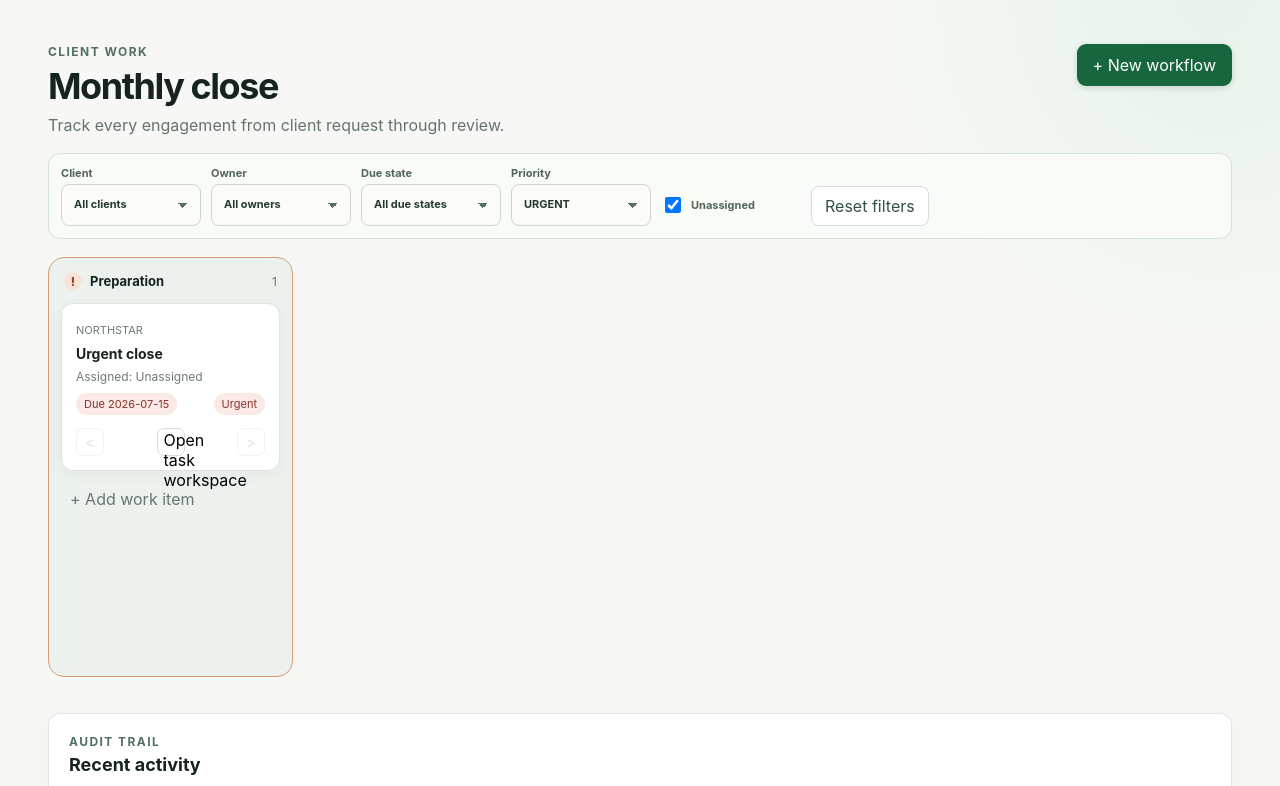
Test: WorkflowView › filters visible cards and restores selected filters from the workflow URL
Expected: the heading "Urgent close" is shown, left=76, top=345, right=163, bottom=362
Expected: the heading "Assigned close" is not shown
Click the button "Reset filters" at {"x": 870, "y": 206}, box left=811, top=186, right=929, bottom=226
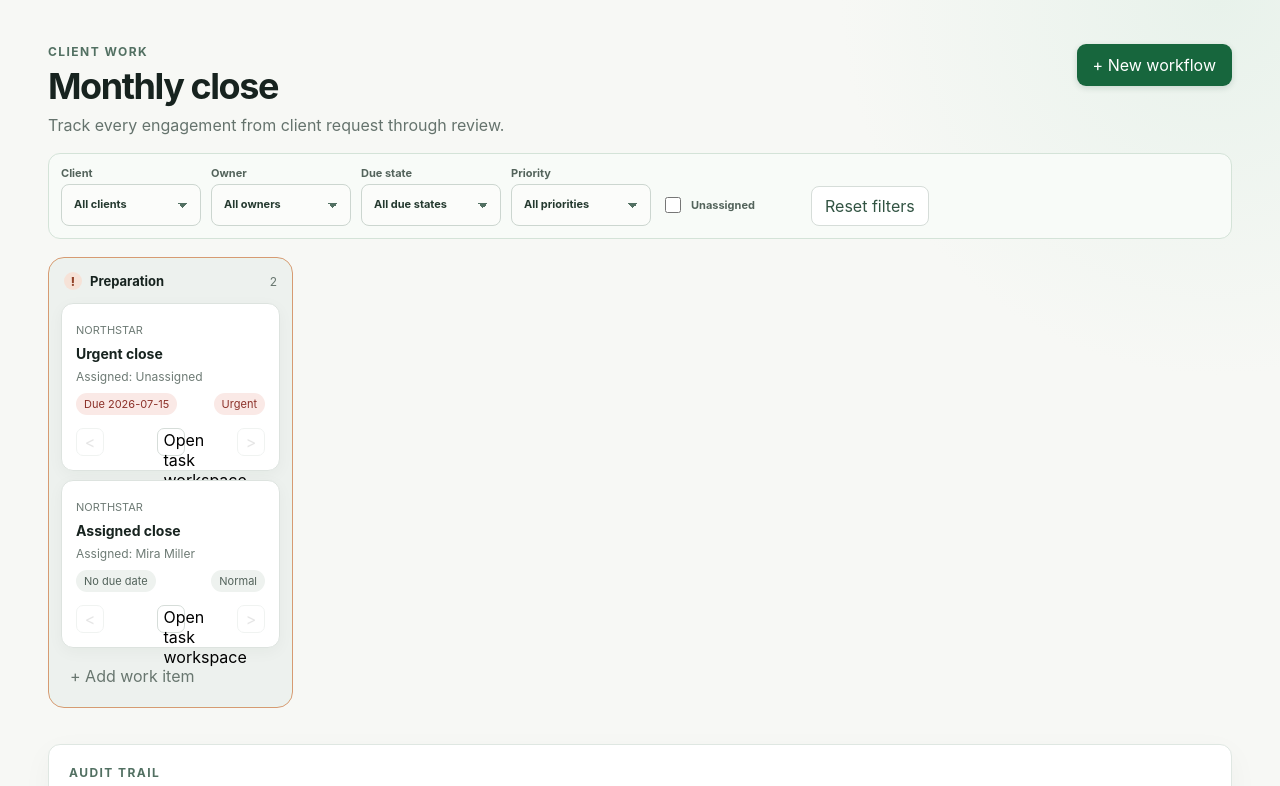
Now the heading "Assigned close" is shown, box left=76, top=522, right=181, bottom=539
